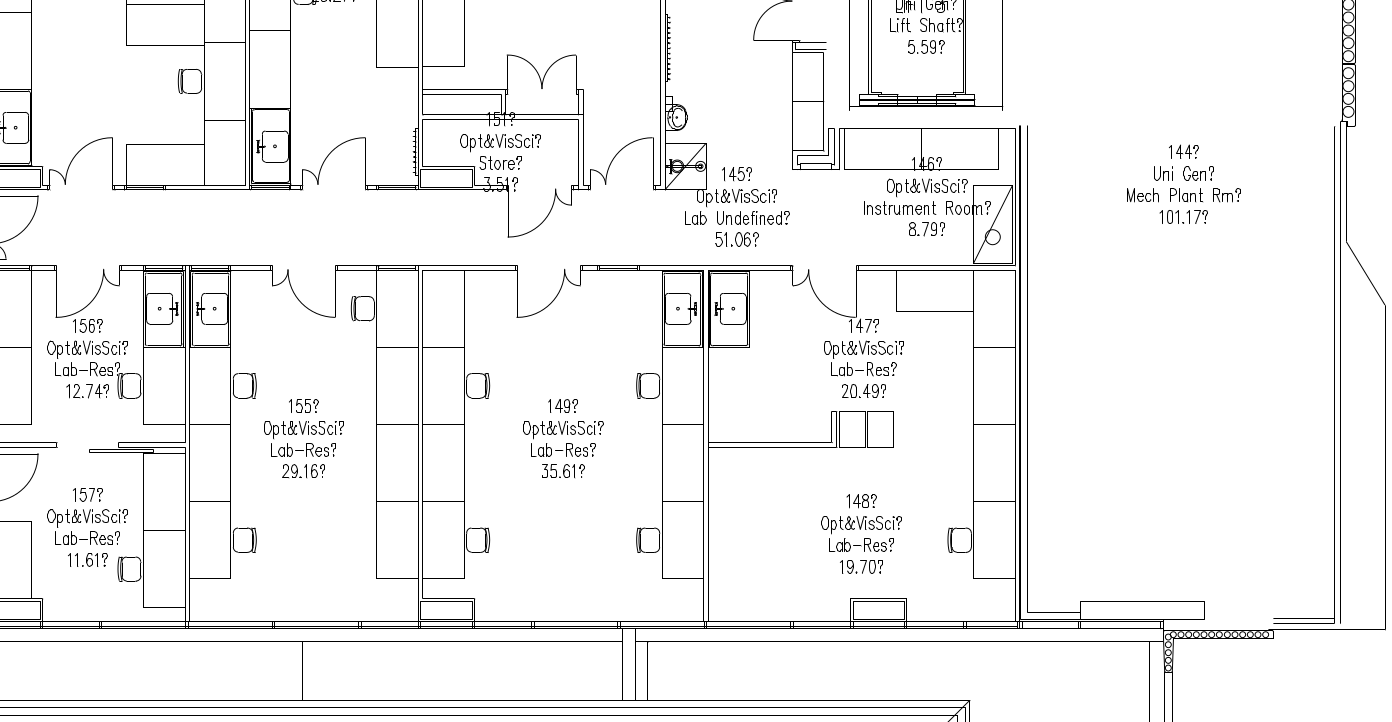door: (44, 258, 104, 323), (805, 258, 862, 324), (508, 257, 565, 323), (500, 181, 557, 247), (603, 126, 657, 192), (66, 128, 115, 192), (320, 127, 369, 191), (288, 261, 337, 325), (499, 46, 543, 97), (537, 44, 581, 95), (748, 1, 792, 51), (266, 257, 295, 299), (298, 157, 327, 199), (99, 261, 124, 294), (783, 259, 808, 292)
